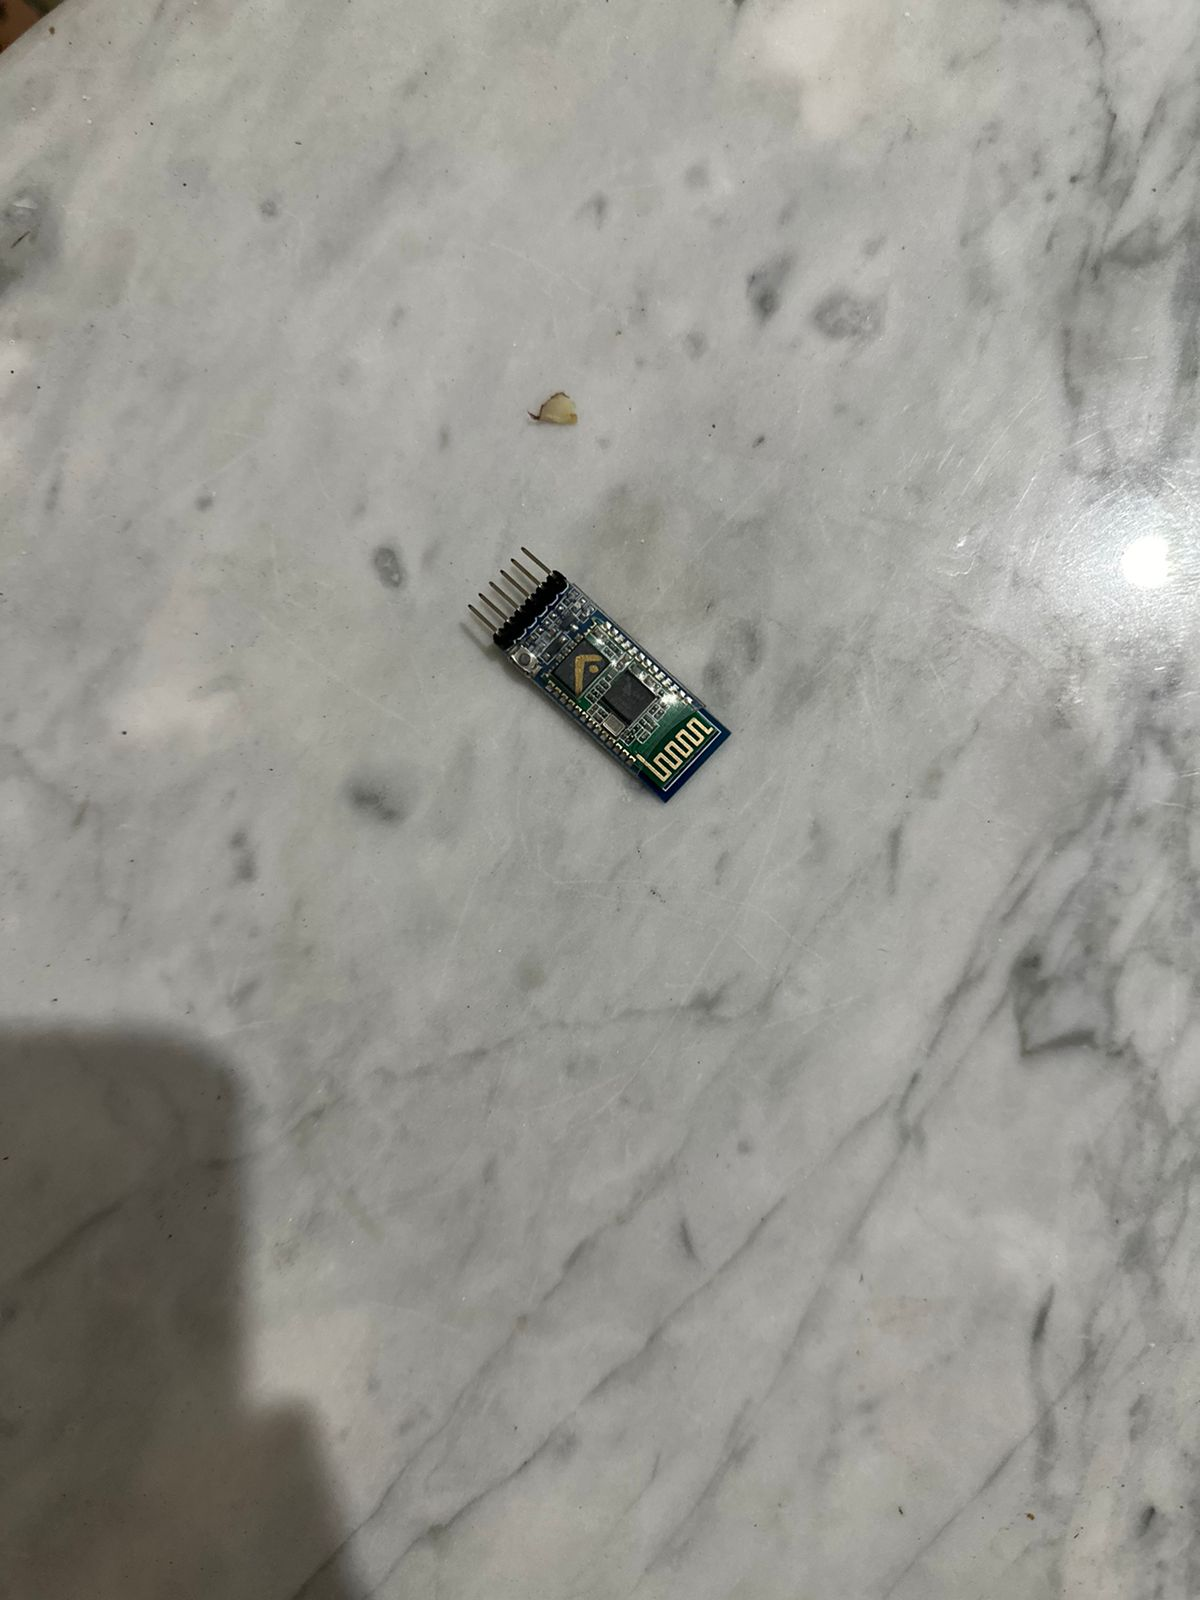module-bluetooth: (444, 553, 749, 792)
